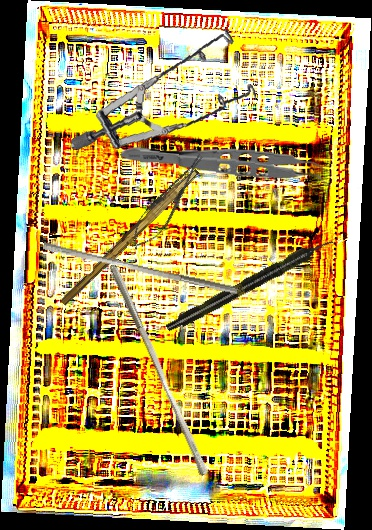Handpiece: (163, 233, 337, 336)
Needle Holder: (123, 147, 213, 257)
Pusher: (100, 263, 217, 477), (41, 241, 240, 295)
Scalpel Handle: (59, 164, 200, 309)
Speculum: (70, 11, 264, 171)
Tissue Forceps: (119, 142, 333, 190)
